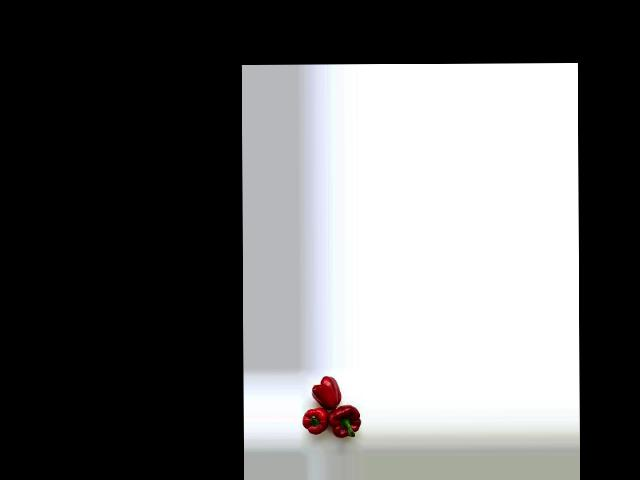bell_pepper: (306, 371, 343, 411)
